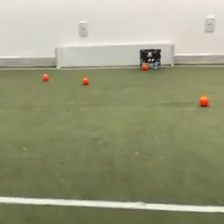ball: (198, 94, 209, 108), (81, 75, 90, 85), (41, 72, 50, 81), (141, 62, 149, 71)
goal: (53, 41, 177, 70)
robot: (138, 47, 163, 71)
